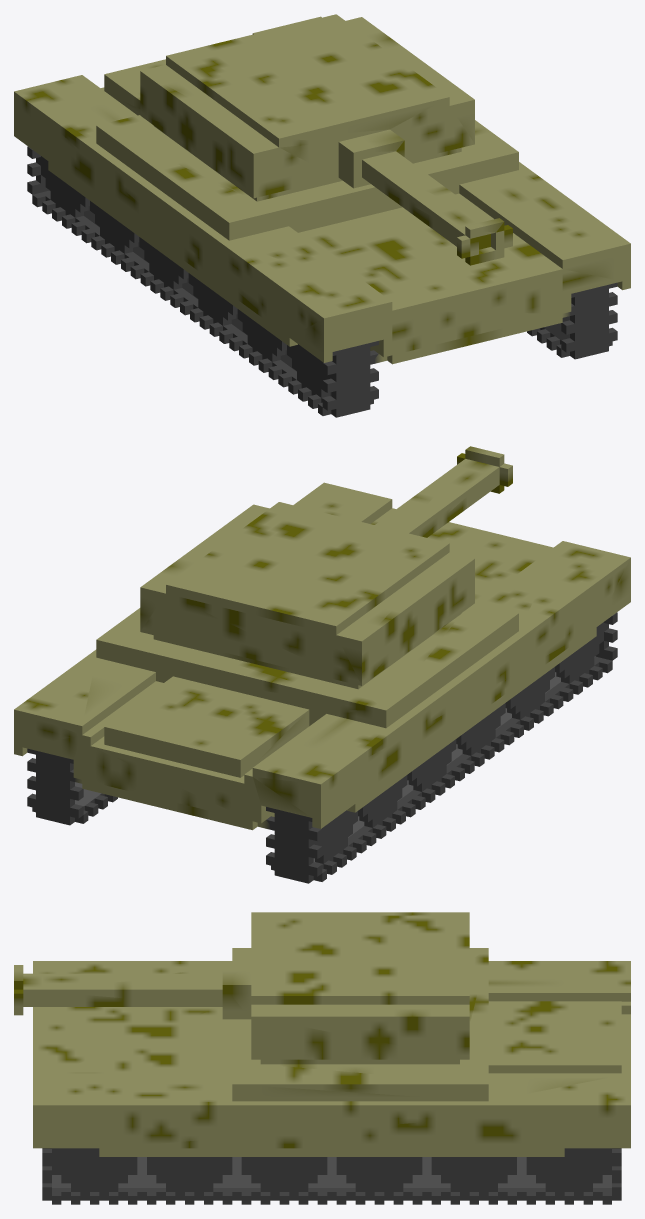
The model's file is veh_tank1.dae.
3 renders of one model, top to bottom at view 1: azimuth 30°, elevation 25°; view 2: azimuth 150°, elevation 25°; view 3: azimuth 270°, elevation 25°, orthographic. The views are drawn at different scales.
Visible parts, largest first — view 1: veh_tank1; view 2: veh_tank1; view 3: veh_tank1.
Part boxes in pixels (box(x1,y1,x2,y2)): veh_tank1: box(14, 14, 630, 417); veh_tank1: box(14, 446, 630, 883); veh_tank1: box(14, 912, 630, 1204).
Bounding box in the file's own units: 3.6 × 6.5 × 2.1.
Materials: 1 (1 with a texture image).
